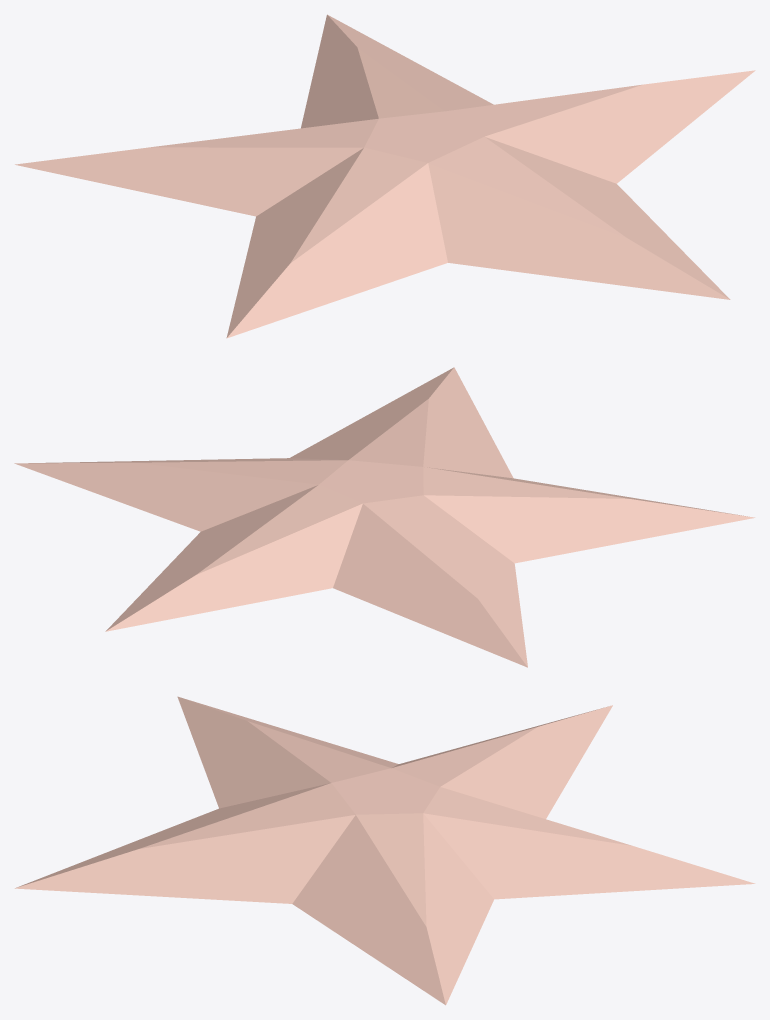
Rendered from Prop_Starfish_1.glb.
The picture shows the model from 3 angles, top to bottom: view 1: azimuth 30°, elevation 25°; view 2: azimuth 150°, elevation 25°; view 3: azimuth 270°, elevation 25°; orthographic projection. The views are drawn at different scales.
Parts seen in each view (by area): view 1: object1; view 2: object1; view 3: object1.
Part boxes in pixels (x1,y1,x2,y2): object1: [15, 14, 755, 338]; object1: [14, 367, 755, 667]; object1: [14, 696, 755, 1005].
Bounding box in the file's own units: 0.7559 × 0.05 × 0.7668.
